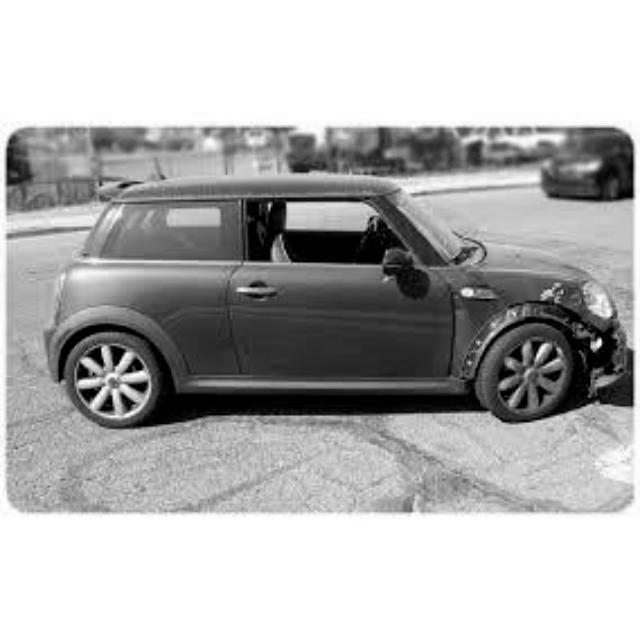fender-dent: (467, 277, 604, 337)
